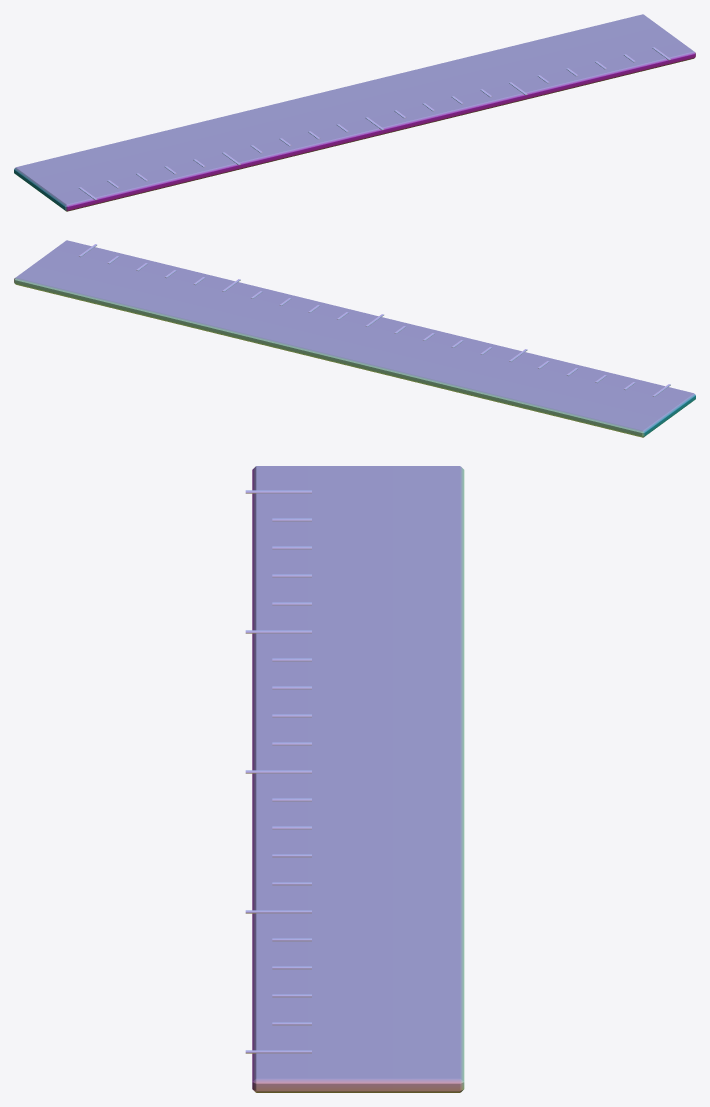
File: env_deco_ruler.glb
3 renders of one model, top to bottom at view 1: azimuth 30°, elevation 25°; view 2: azimuth 150°, elevation 25°; view 3: azimuth 270°, elevation 25°, orthographic. The views are drawn at different scales.
Parts seen in each view (by area): view 1: env_deco_ruler_mesh; view 2: env_deco_ruler_mesh; view 3: env_deco_ruler_mesh.
Boxes of the visible parts, bbox=[...] form: env_deco_ruler_mesh: bbox=[14, 14, 695, 211]; env_deco_ruler_mesh: bbox=[14, 240, 695, 437]; env_deco_ruler_mesh: bbox=[245, 466, 464, 1092].
Size of the model in its own units: 2.2 by 0.0255 by 0.33.
